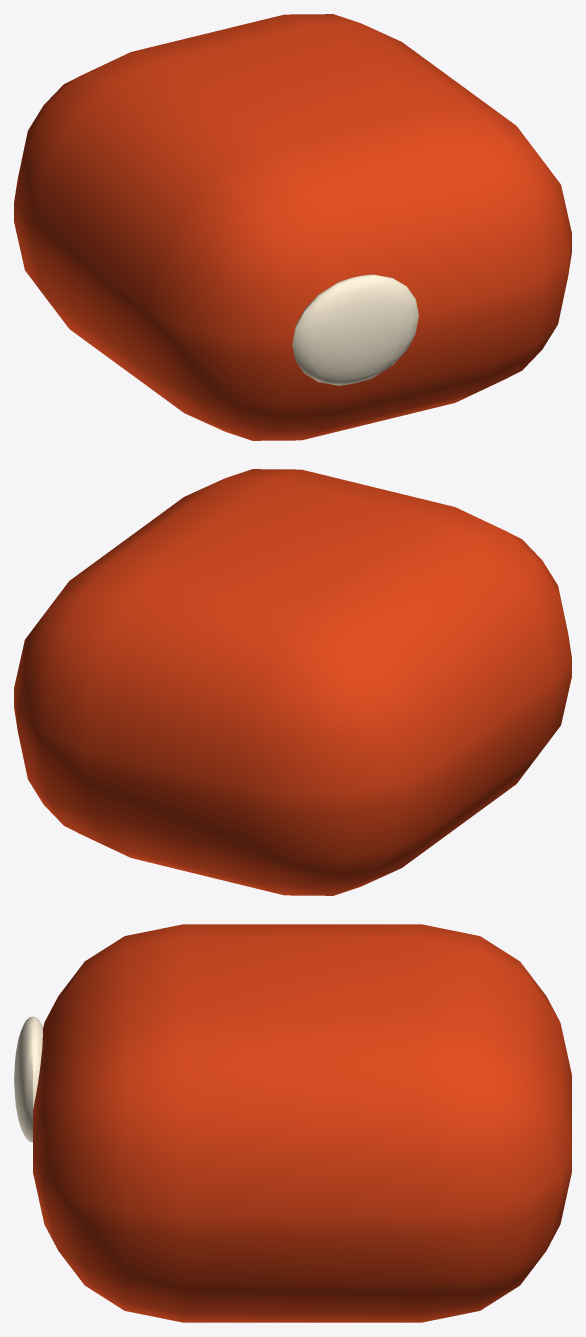
The model's file is plat_mush_r.glb.
3 renders of one model, top to bottom at view 1: azimuth 30°, elevation 25°; view 2: azimuth 150°, elevation 25°; view 3: azimuth 270°, elevation 25°, orthographic. The views are drawn at different scales.
Visible parts, largest first — view 1: cap.002, spot.002; view 2: cap.002; view 3: cap.002, spot.002.
Part boxes in pixels (<box>): cap.002: <box>14,14,571,440</box>; spot.002: <box>292,274,418,385</box>; cap.002: <box>14,469,571,895</box>; cap.002: <box>33,924,571,1322</box>; spot.002: <box>14,1016,43,1142</box>.
Bounding box in the file's own units: 0.9 × 0.6001 × 1.04.
